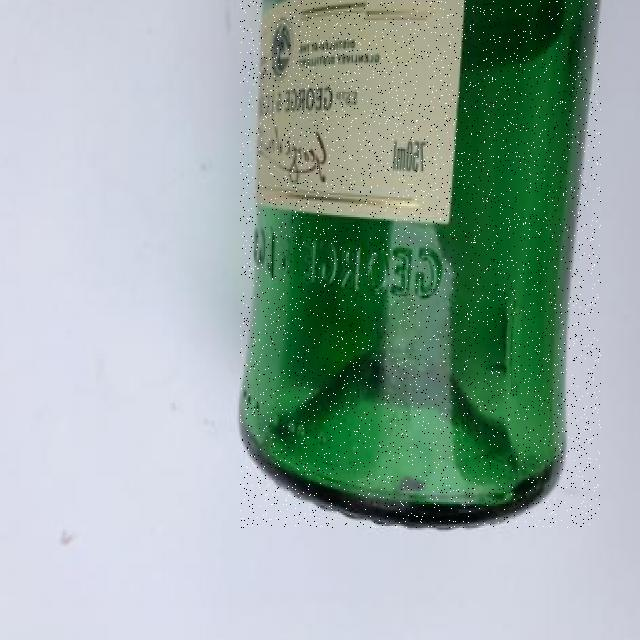glass: (241, 0, 601, 528)
